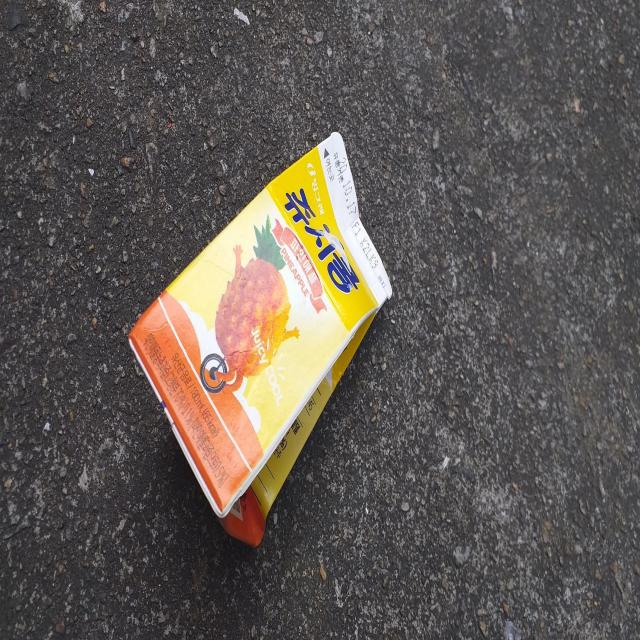paperpack: (129, 131, 392, 525)
